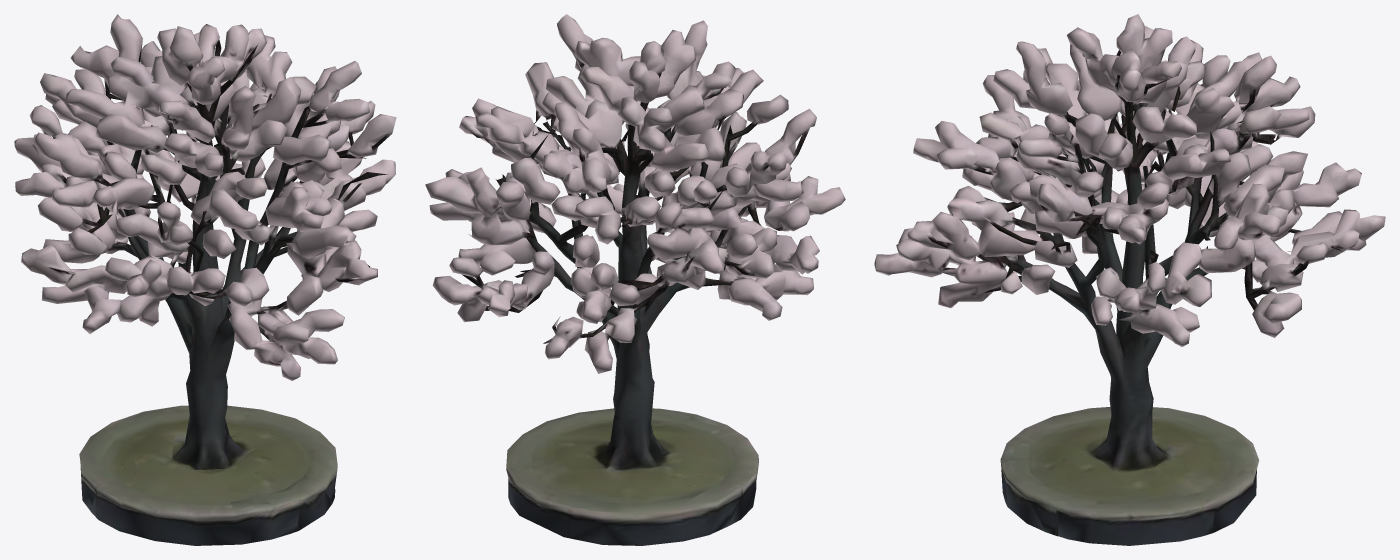
File: au_env_sakura_tree.glb
The picture shows the model from 3 angles, left to right: view 1: azimuth 30°, elevation 25°; view 2: azimuth 150°, elevation 25°; view 3: azimuth 270°, elevation 25°; orthographic projection. The views are drawn at different scales.
Parts seen in each view (by area): view 1: tripo_node_c5a3e5c1-af36-4b5e-a391-a1e2a3014299; view 2: tripo_node_c5a3e5c1-af36-4b5e-a391-a1e2a3014299; view 3: tripo_node_c5a3e5c1-af36-4b5e-a391-a1e2a3014299.
Part boxes in pixels (left/top/right/bottom): tripo_node_c5a3e5c1-af36-4b5e-a391-a1e2a3014299: left=14, top=14, right=396, bottom=545; tripo_node_c5a3e5c1-af36-4b5e-a391-a1e2a3014299: left=425, top=14, right=845, bottom=545; tripo_node_c5a3e5c1-af36-4b5e-a391-a1e2a3014299: left=874, top=14, right=1385, bottom=545.
Size of the model in its own units: 0.8214 by 0.9803 by 0.9746.
Materials: 1 (1 with a texture image).
